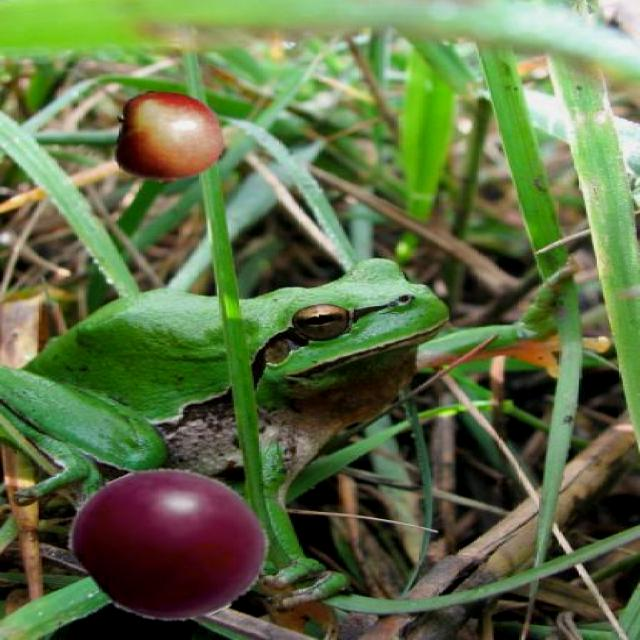Apple: (69, 467, 271, 619), (104, 89, 230, 184)
